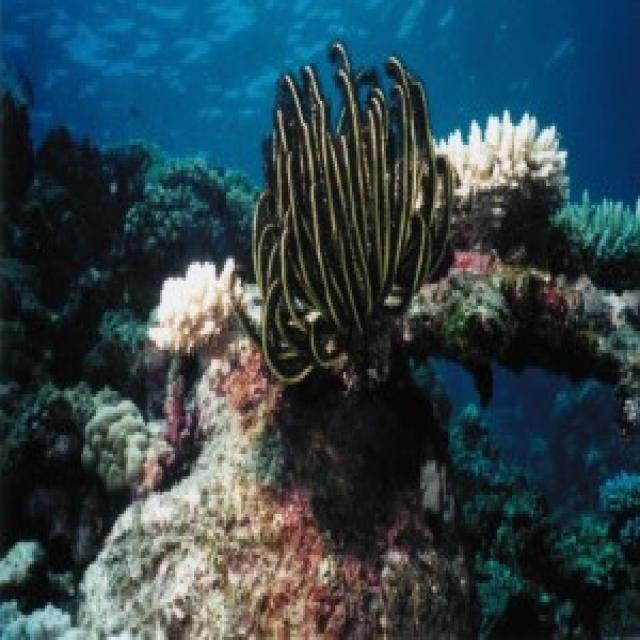Bleached: (434, 111, 566, 215), (84, 389, 176, 493), (148, 260, 244, 351)
Healthy: (255, 45, 453, 382), (556, 190, 639, 260)
